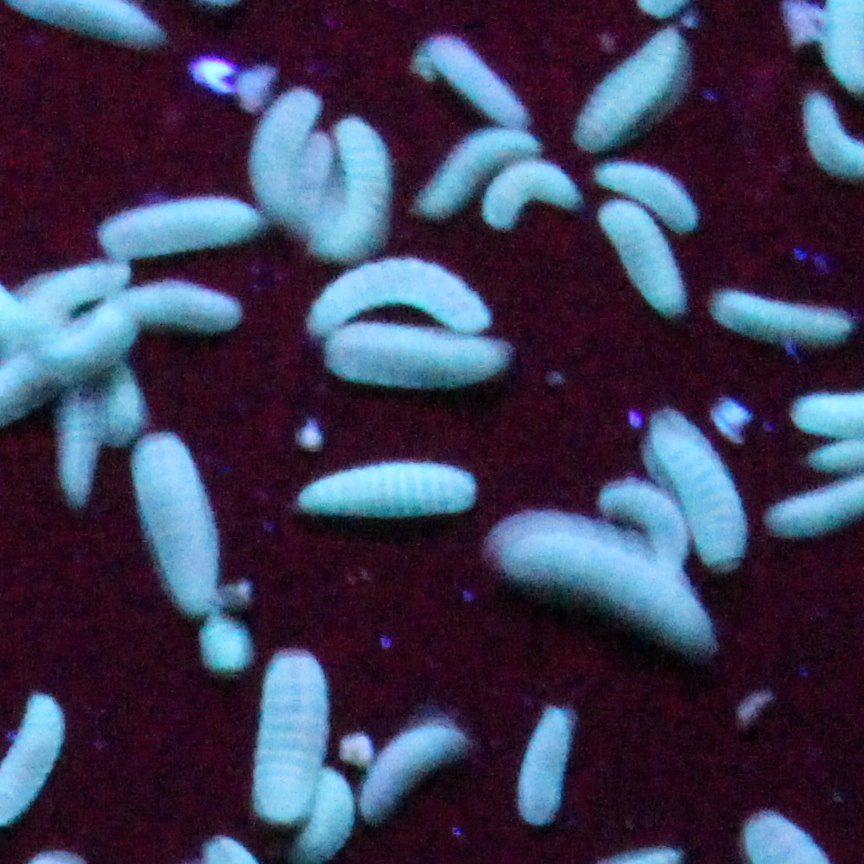larve: (474, 520, 726, 668), (642, 424, 746, 564), (306, 272, 498, 336), (334, 328, 522, 388), (594, 24, 690, 132), (262, 656, 322, 824), (370, 720, 466, 824), (710, 284, 862, 348), (142, 428, 194, 608), (294, 460, 486, 508), (590, 212, 670, 324), (106, 200, 274, 244), (618, 488, 702, 568), (430, 44, 518, 120), (478, 172, 574, 232), (522, 712, 566, 840), (30, 1, 146, 44), (614, 164, 714, 212), (274, 100, 310, 232), (78, 304, 278, 324), (66, 380, 86, 504), (358, 120, 374, 260)
